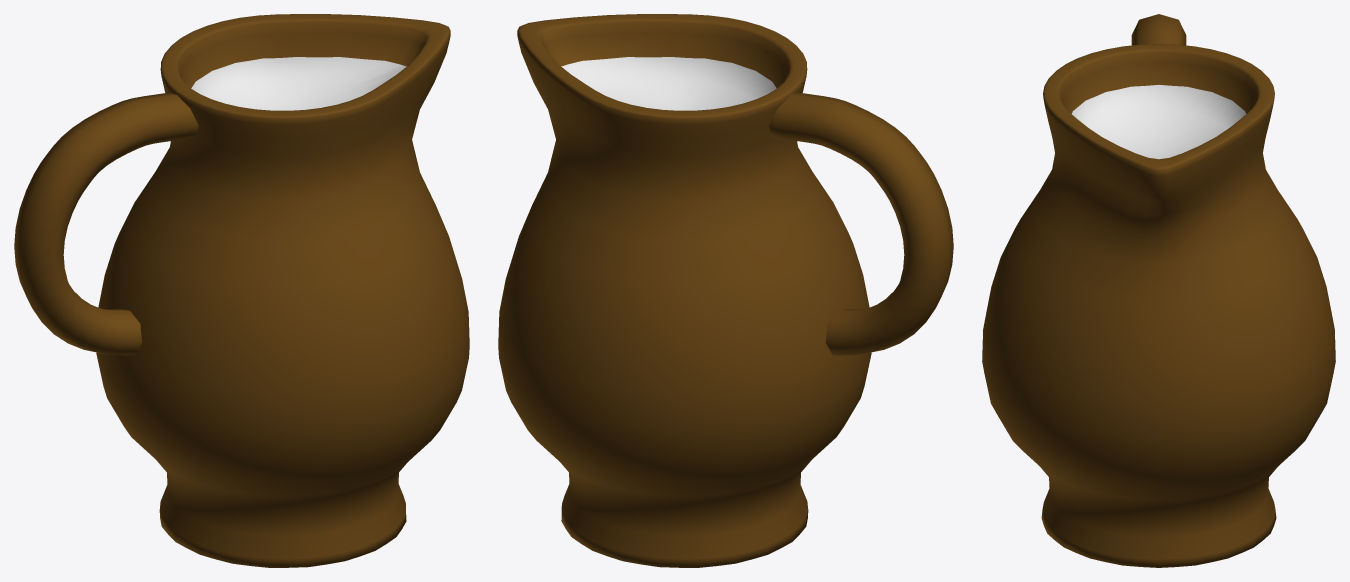
File: MilkJar01.fbx
3 renders of one model, left to right at view 1: azimuth 30°, elevation 25°; view 2: azimuth 150°, elevation 25°; view 3: azimuth 270°, elevation 25°, orthographic. The views are drawn at different scales.
Visible parts, largest first — view 1: MilkJar01; view 2: MilkJar01; view 3: MilkJar01.
Boxes of the visible parts, bbox=[...] form: MilkJar01: bbox=[14, 14, 469, 567]; MilkJar01: bbox=[498, 14, 953, 567]; MilkJar01: bbox=[982, 14, 1335, 567].
Size of the model in its own units: 792 by 800 by 597.
